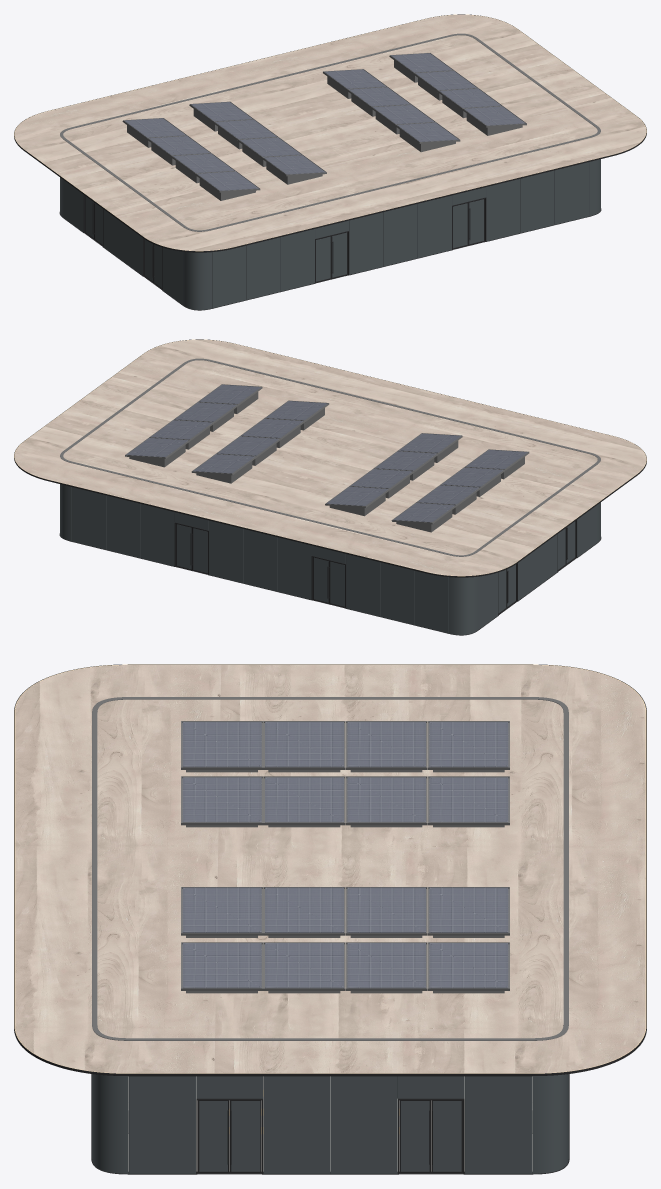
Rendered from pavilion.glb.
The picture shows the model from 3 angles, top to bottom: view 1: azimuth 30°, elevation 25°; view 2: azimuth 150°, elevation 25°; view 3: azimuth 270°, elevation 25°; orthographic projection. The views are drawn at different scales.
Visible parts, largest first — view 1: wood, Glass, SolarPanel, MatteGreyDark, Black, BacklightCeilingPerimeter; view 2: wood, Glass, SolarPanel, MatteGreyDark, Black, BacklightCeilingPerimeter; view 3: wood, SolarPanel, Glass, MatteGreyDark, Black, BacklightCeilingPerimeter, Matte.
Boxes of the visible parts, x1,y1,x2,y2 form: wood: (14,14,646,250); Glass: (60,159,600,309); SolarPanel: (124,53,525,190); MatteGreyDark: (60,33,600,231); Black: (14,14,646,310); BacklightCeilingPerimeter: (14,14,646,251); wood: (14,339,646,575); Glass: (60,484,600,634); SolarPanel: (126,384,527,522); MatteGreyDark: (60,358,600,556); Black: (14,339,646,635); BacklightCeilingPerimeter: (14,339,646,576); wood: (15,665,645,1073); SolarPanel: (182,722,508,988); Glass: (92,1074,568,1173); MatteGreyDark: (92,697,568,1040); Black: (14,664,646,1174); BacklightCeilingPerimeter: (14,664,646,1073); Matte: (128,1076,532,1171).
Size of the model in its own units: 31.72 by 5.53 by 20.72.
Materials: 11 (2 with a texture image).
